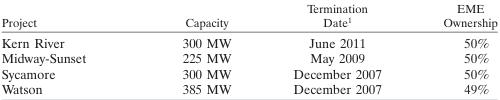table: (0, 0, 496, 96)
table column: (261, 0, 411, 96), (0, 0, 133, 96), (133, 0, 261, 96), (411, 0, 496, 96)
table column header: (0, 0, 496, 31)
table row: (0, 0, 496, 31), (0, 31, 496, 50), (0, 65, 496, 81), (0, 50, 496, 65), (0, 81, 496, 96)
